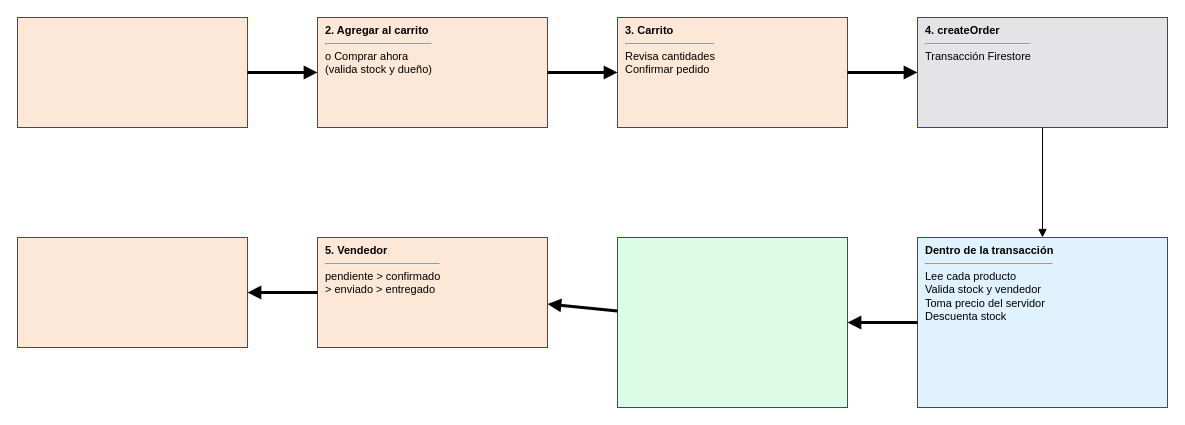
The diagram is 1185 pixels wide and 425 high, and some of its shapes have lost their labels. The shapes that lost their labels are listed below. From the top down, each one's centre as x and y in pixels, then its label:
At [132,72]: "1. Detalle del producto Elige cantidad".
At [132,292]: "6. Comprador Sigue el estado Califica el producto".
At [732,322]: "Resultado Crea pedido 'pendiente' Vacía items del carrito".
